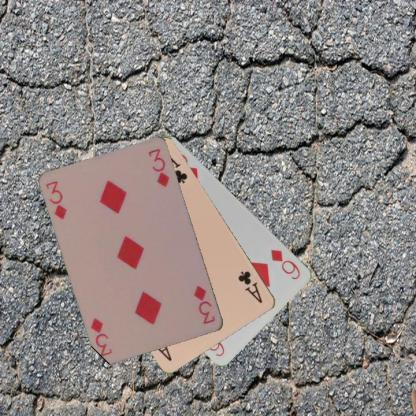3d: (191, 283, 217, 326), (43, 178, 69, 221)
6d: (268, 247, 302, 281)
Ac: (235, 268, 264, 305)
